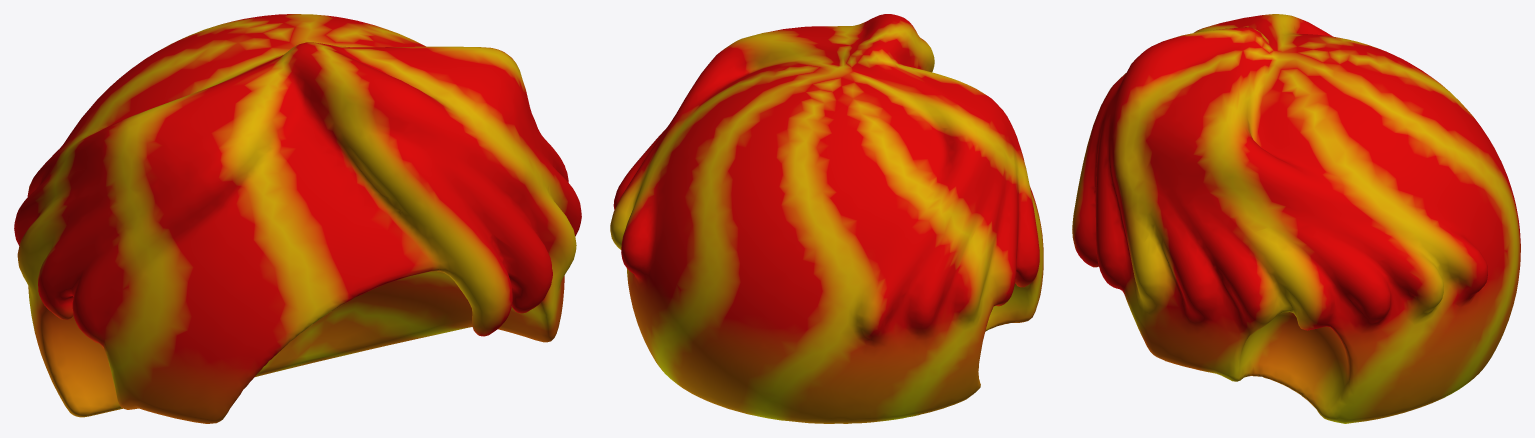
File: pixie.glb
3 renders of one model, left to right at view 1: azimuth 30°, elevation 25°; view 2: azimuth 150°, elevation 25°; view 3: azimuth 270°, elevation 25°, orthographic. The views are drawn at different scales.
Parts seen in each view (by area): view 1: part; view 2: part; view 3: part.
Boxes of the visible parts, x1,y1,x2,y2 form: part: (14,14,581,423); part: (610,14,1043,423); part: (1072,14,1520,423).
Size of the model in its own units: 2.26 by 1.65 by 2.15.
